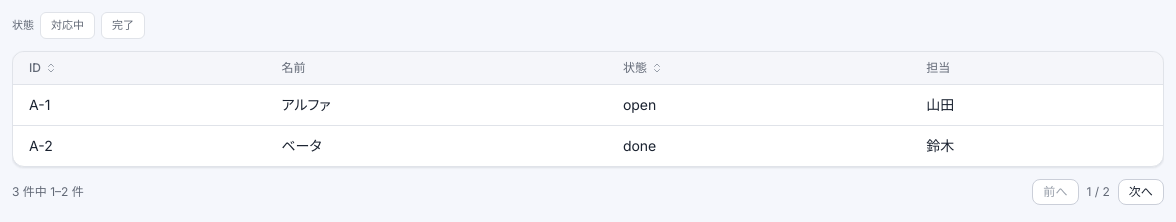
Test: DataTable (Phase 3) › pagination: pageSize=2 で 2 行 + pager、次へ で残り
Check: the number of links is 2, box 29,96 -> 50,112; 29,136 -> 53,154
Check: the text "1 / 2" is shown, box 1086,184 -> 1110,200
Click the button "次へ".
click(1141, 192)  # box 1118,178 -> 1164,204
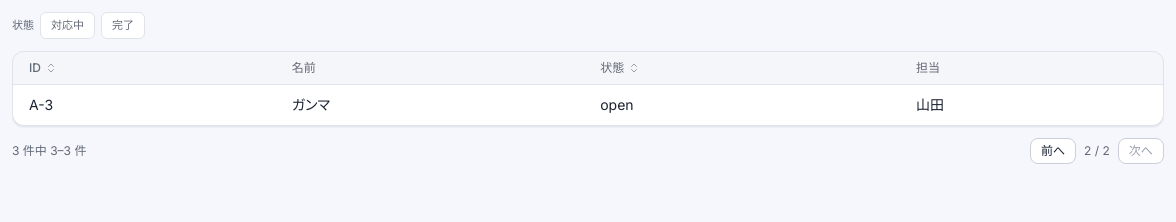
Check: the number of links is 1, box 29,96 -> 53,112
